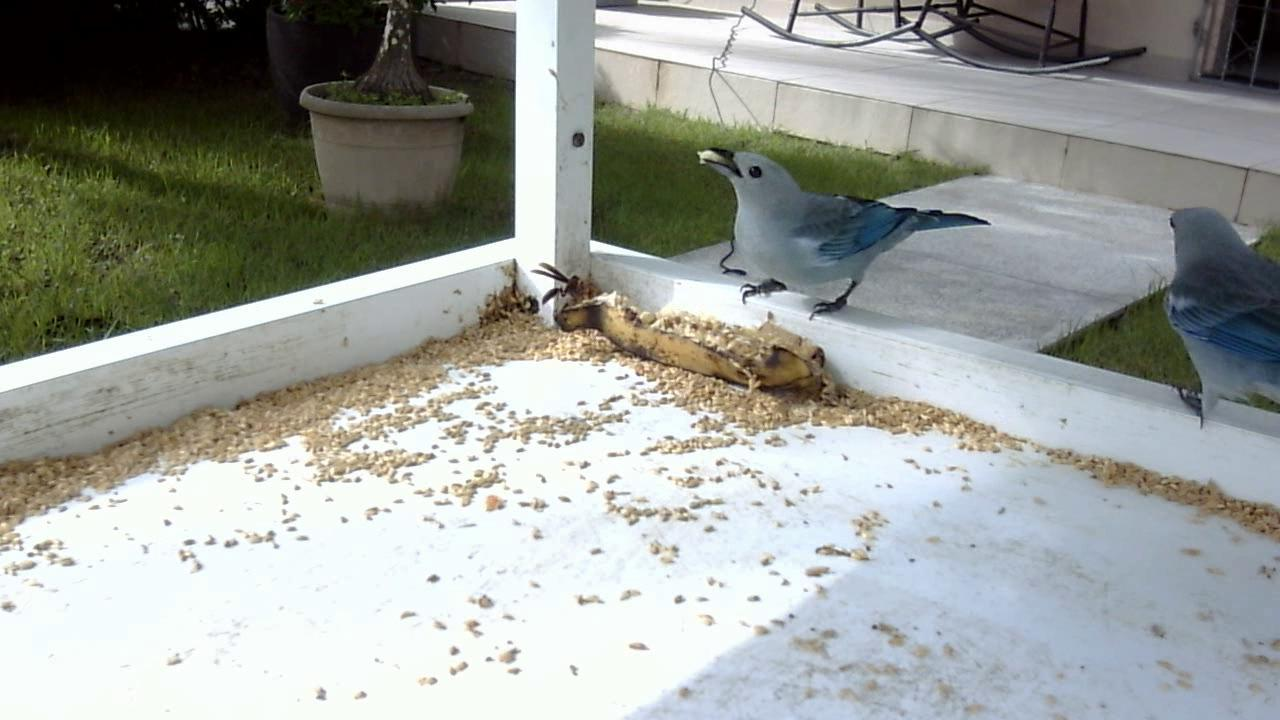sanhaco_da_amazonia: (682, 138, 999, 337), (1144, 201, 1278, 444)
